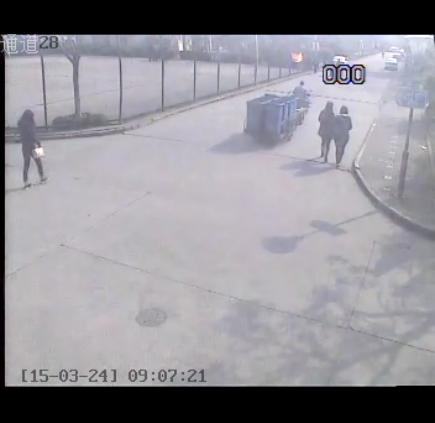person: (16, 108, 49, 190), (330, 103, 355, 168), (317, 99, 337, 166), (294, 78, 310, 96)
